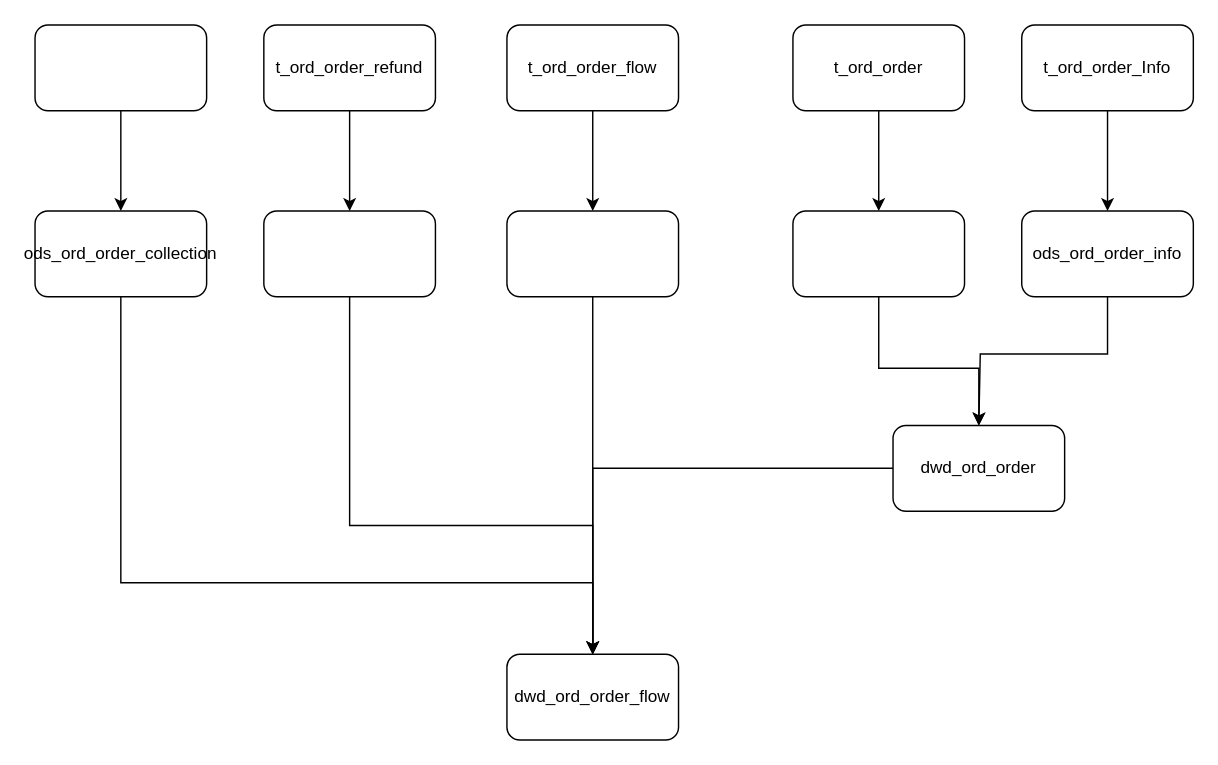
This 1218x765 diagram has some shape labels left out. The box of each missing label's shape, as (x1, y1, x2, y2) in pixels:
ods_ord_order: (792, 209, 965, 297)
ods_ord_order_flow: (506, 209, 679, 297)
ods_ord_order_refund: (262, 209, 435, 297)
t_ord_order_collection: (34, 24, 207, 111)
